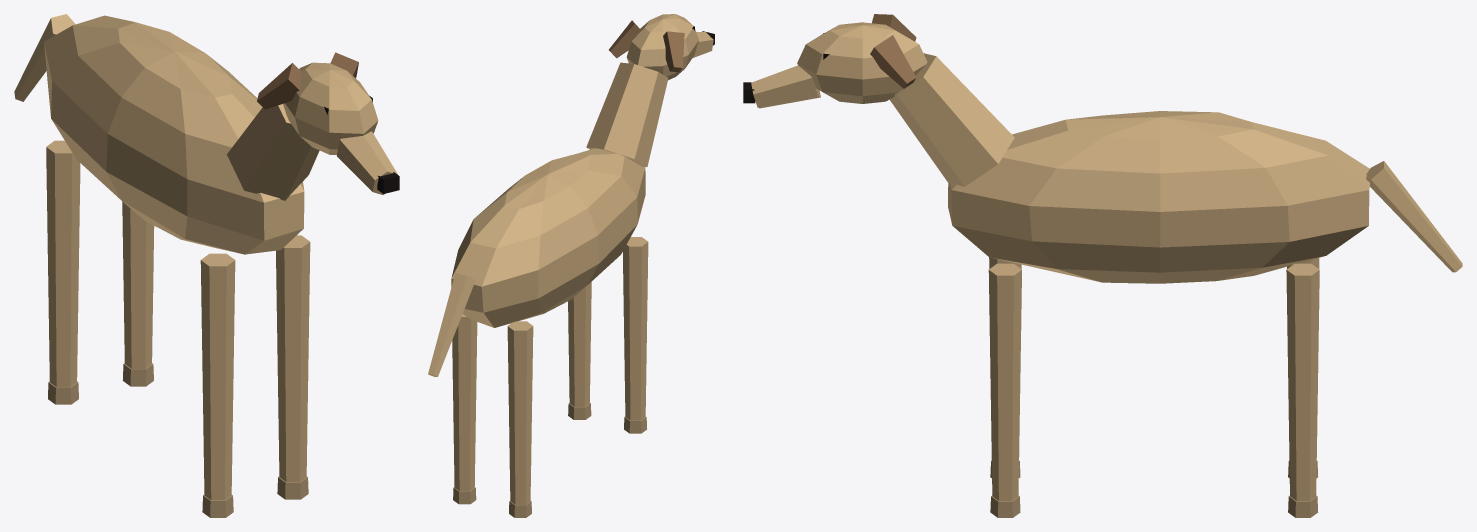
The model's file is Animal_Dog.obj.
3 renders of one model, left to right at view 1: azimuth 30°, elevation 25°; view 2: azimuth 150°, elevation 25°; view 3: azimuth 270°, elevation 25°, orthographic. The views are drawn at different scales.
Parts seen in each view (by area): view 1: Animal_Dog; view 2: Animal_Dog; view 3: Animal_Dog.
Part boxes in pixels (left/top/right/bottom): Animal_Dog: left=14, top=14, right=399, bottom=517; Animal_Dog: left=428, top=14, right=714, bottom=517; Animal_Dog: left=743, top=14, right=1462, bottom=517.
Bounding box in the file's own units: 0.2559 × 0.8712 × 1.21.
